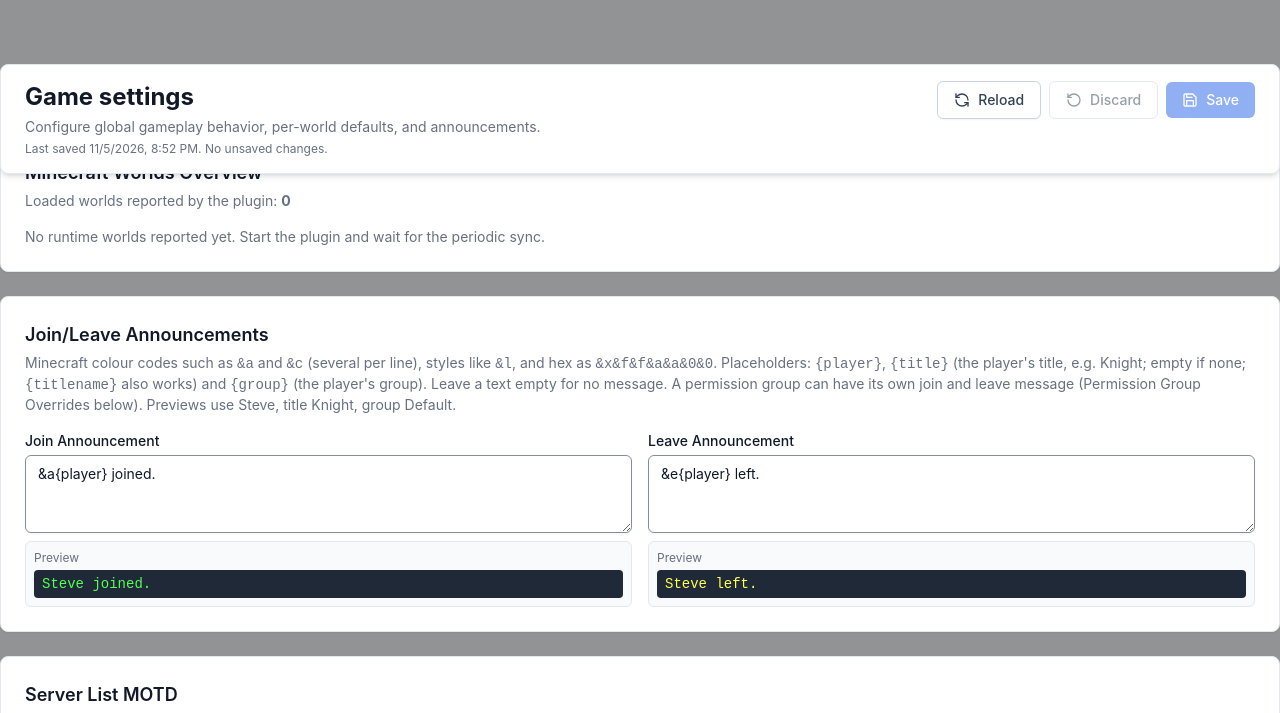
Test: GameSettingsPage on the SettingsPage shell (#187, SET-4) › keeps the changes and shows the API reason in the header when a save is refused
This screenshot has width=1280, height=713.
In the text box labelled "Leave Announcement": x=952, y=494 648,455 -> 1255,533, type "?"
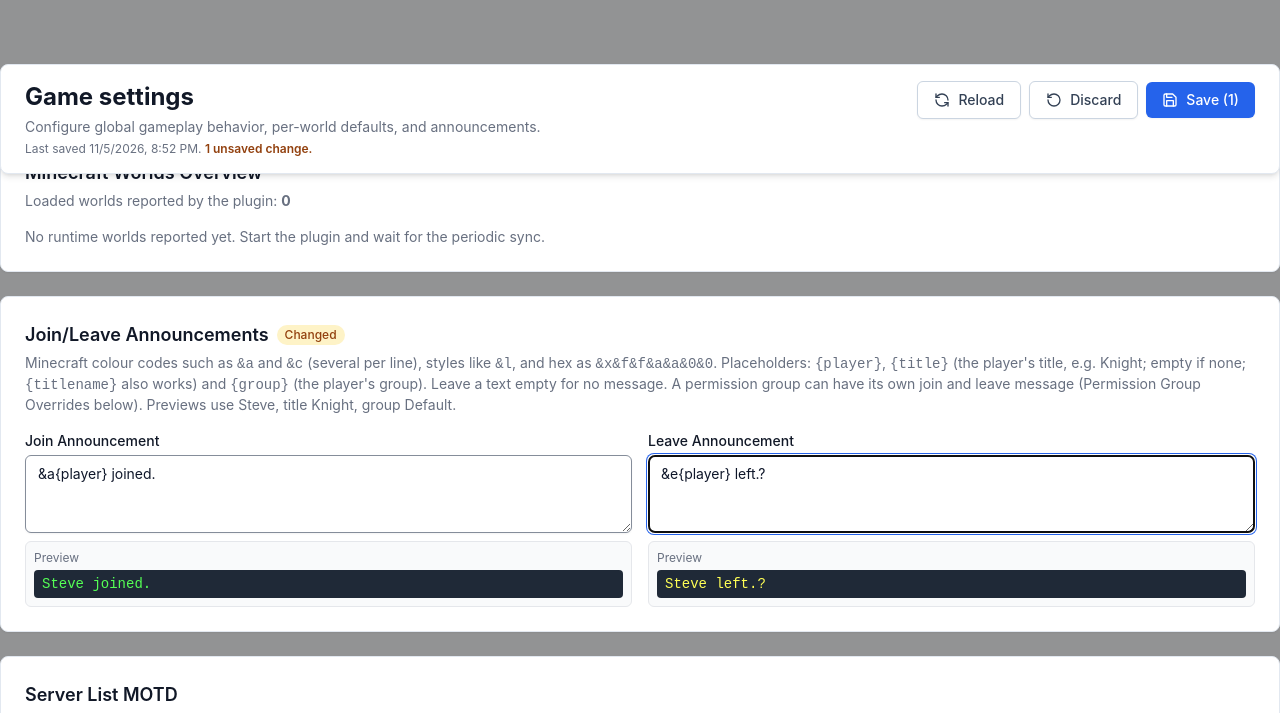
Click the button "Save (1)": x=1201, y=100 1146,82 -> 1255,118
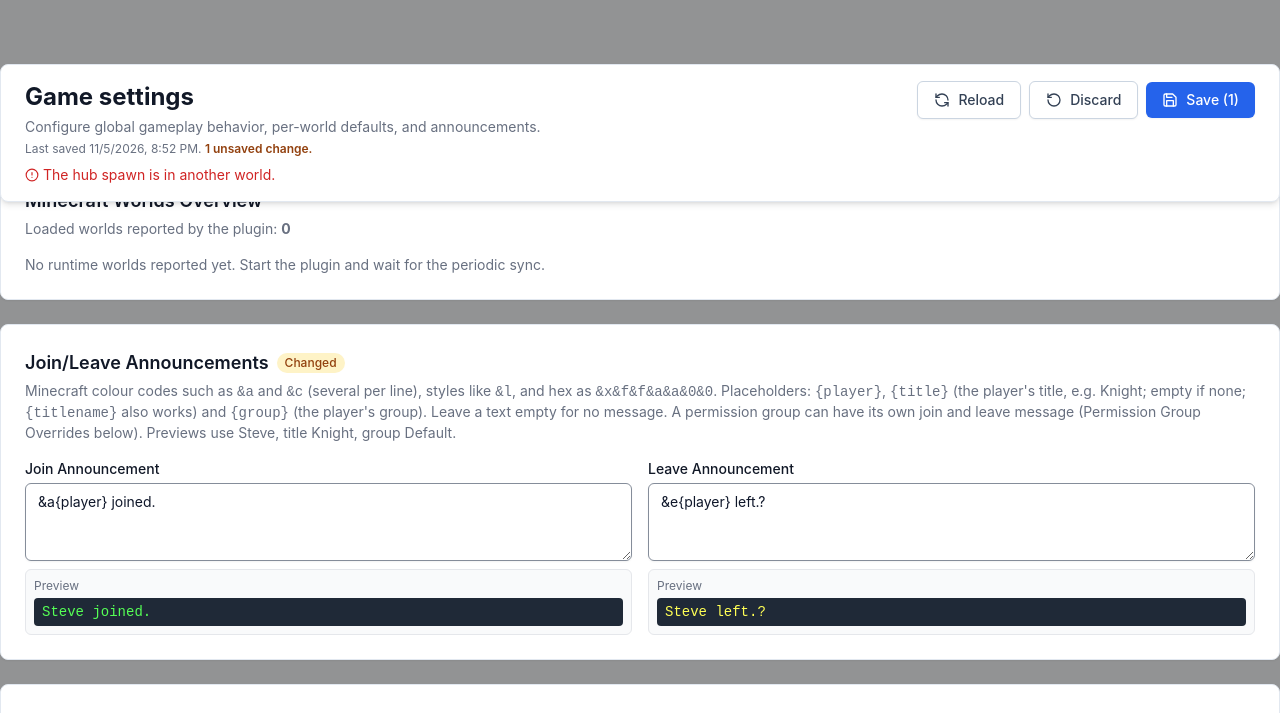
Now the text "1 unsaved change." is shown, box 205,141 -> 312,156
Now the message reads "The hub spawn is in another world.", box 43,166 -> 275,183
